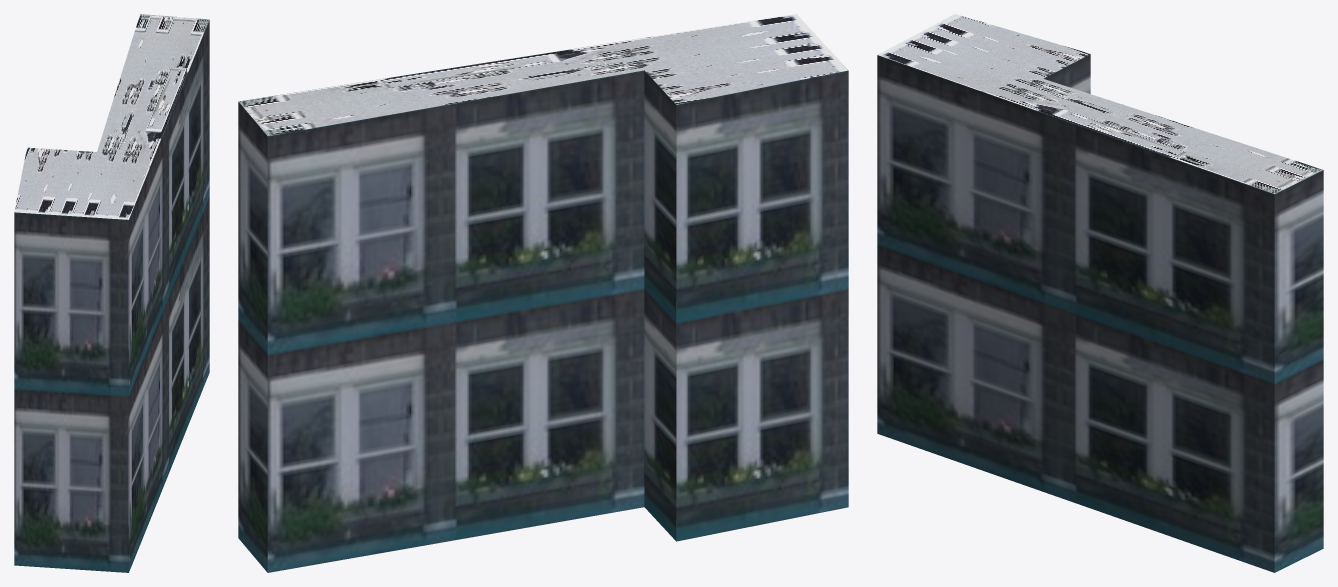
The model's file is ResTex__3750.fbx.
3 views of the same model, side by side, from view 1: azimuth 30°, elevation 25°; view 2: azimuth 150°, elevation 25°; view 3: azimuth 270°, elevation 25° (orthographic). The views are drawn at different scales.
Visible parts, largest first — view 1: CityEngineMaterial_11_m, CityEngineMaterial_8_m; view 2: CityEngineMaterial_11_m, CityEngineMaterial_8_m; view 3: CityEngineMaterial_11_m, CityEngineMaterial_8_m.
Boxes of the visible parts, x1,y1,x2,y2 form: CityEngineMaterial_11_m: (14,20,209,572); CityEngineMaterial_8_m: (14,14,209,219); CityEngineMaterial_11_m: (238,70,848,572); CityEngineMaterial_8_m: (238,14,848,135); CityEngineMaterial_11_m: (877,54,1323,572); CityEngineMaterial_8_m: (878,14,1323,194).
Size of the model in its own units: 6.12 by 6 by 6.41.
Materials: 2 (2 with a texture image).
